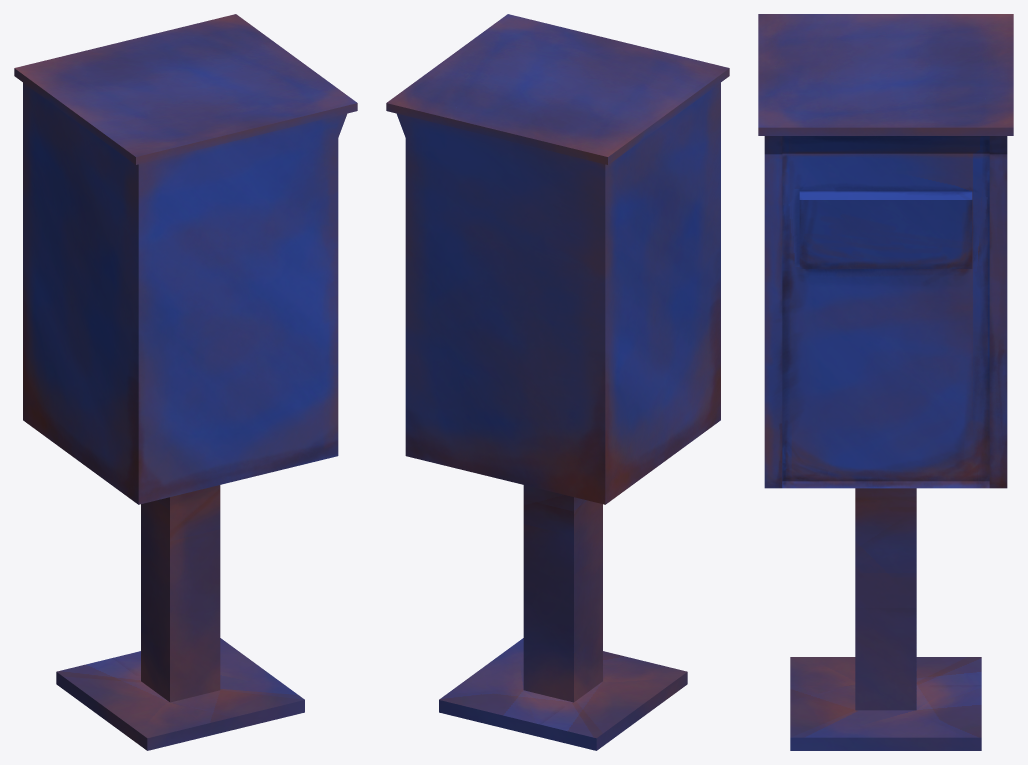
File: Mailbox.fbx
3 views of the same model, side by side, from view 1: azimuth 30°, elevation 25°; view 2: azimuth 150°, elevation 25°; view 3: azimuth 270°, elevation 25° (orthographic). The views are drawn at different scales.
Visible parts, largest first — view 1: Cube; view 2: Cube; view 3: Cube.
Part boxes in pixels (x1,y1,x2,y2): Cube: (14, 14, 357, 750); Cube: (386, 14, 729, 750); Cube: (758, 14, 1013, 750).
Bounding box in the file's own units: 281 × 741 × 267.
